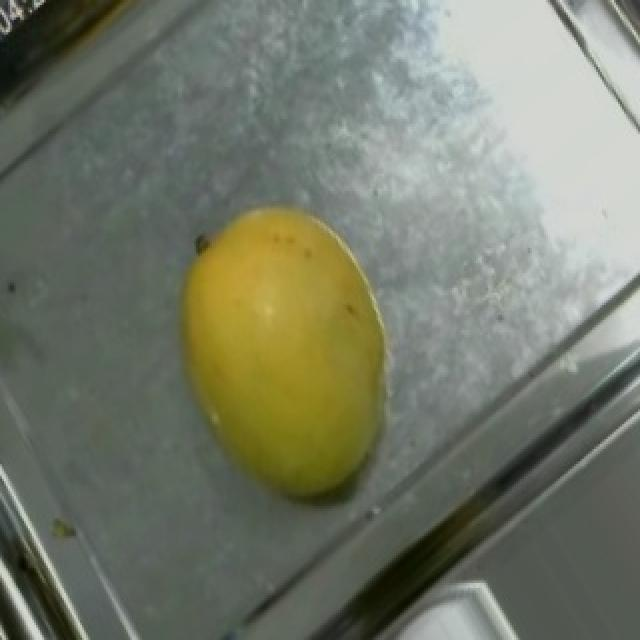fruit: (118, 156, 478, 553)
